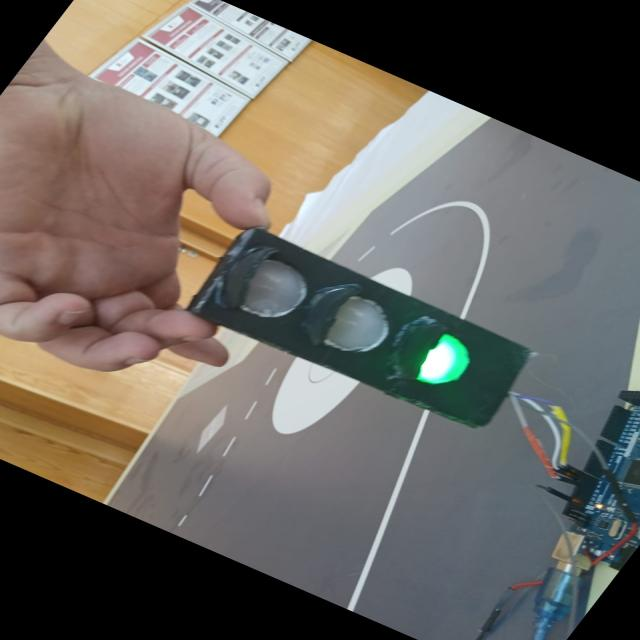green: (416, 334, 470, 384)
trafic lights: (187, 228, 532, 428)
